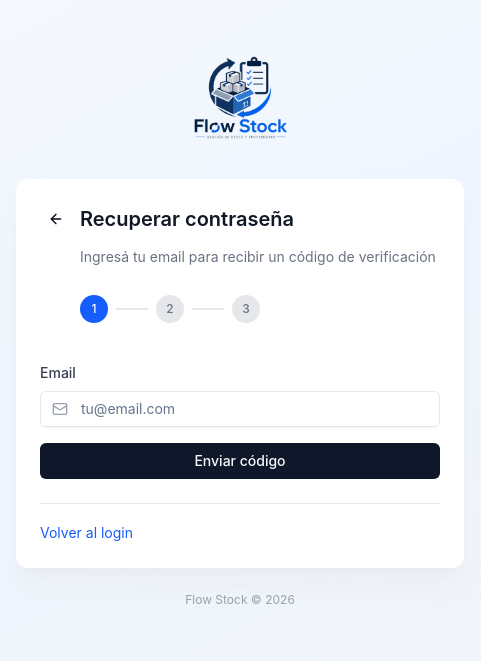
ResetPasswordPage › Paso 2 - Código › avanza al paso 3 con código válido
The width and height of the screenshot is (481, 661).
Type "test@test.com" into the field with placeholder "tu@email.com" at (240, 408), box [40,390,440,426]
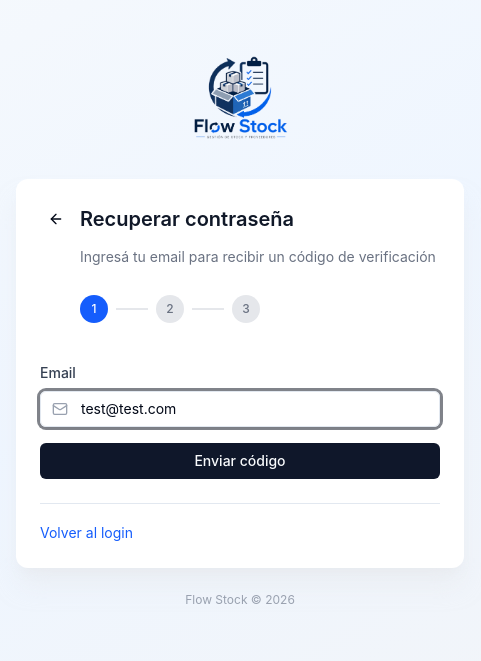
Click the button "Enviar código" at (240, 460), box [40,442,440,478]
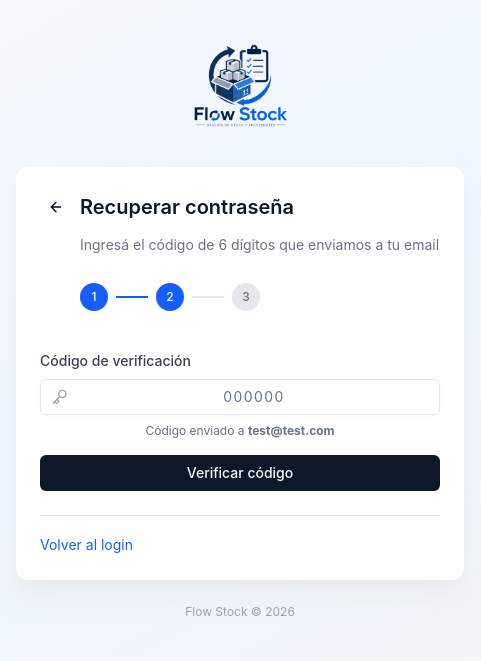
Expected: the field with placeholder "000000" is shown
Type "123456" into the field with placeholder "000000" at (240, 396), box [40,378,440,414]
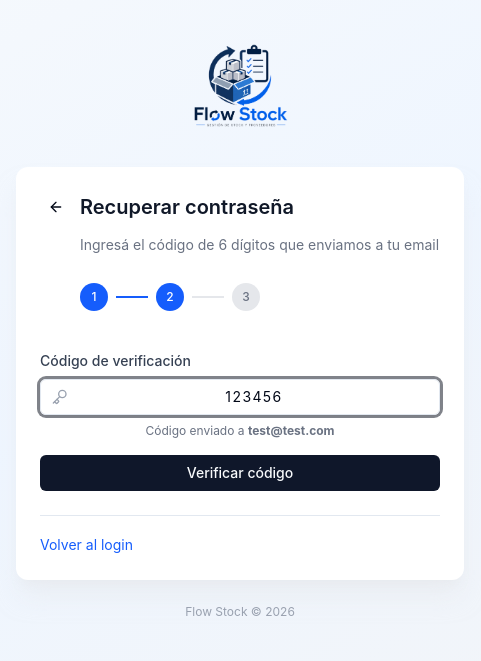
Click the button "Verificar código" at (240, 472), box [40,454,440,490]
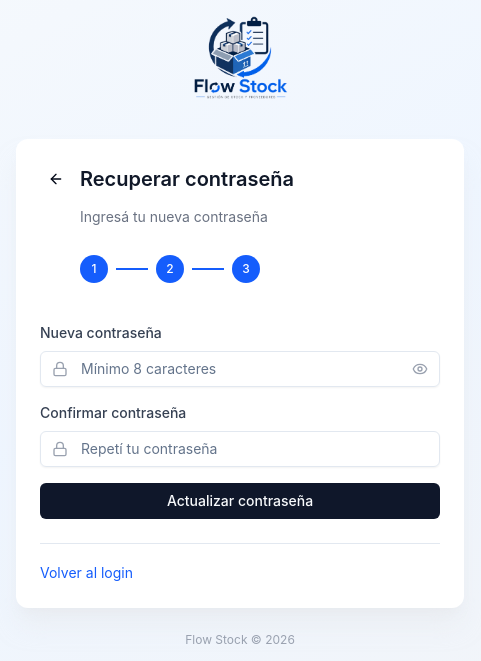
Expected: the text "Ingresá tu nueva contraseña" is shown, [80,208,268,224]
